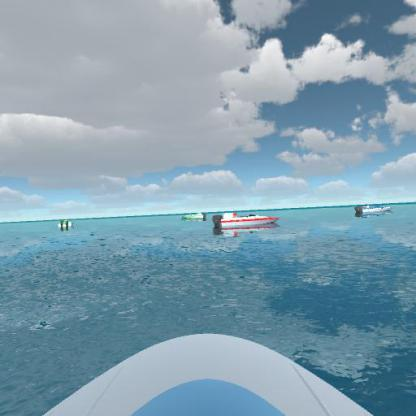usv0: (180, 208, 208, 225), (56, 215, 76, 232)
usv1: (351, 199, 394, 220)
usv3: (212, 208, 282, 234)
